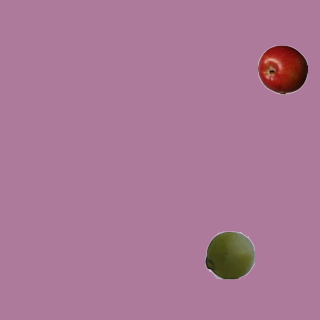Apple Braeburn: (257, 44, 307, 94)
Grape White 4: (204, 229, 254, 279)
